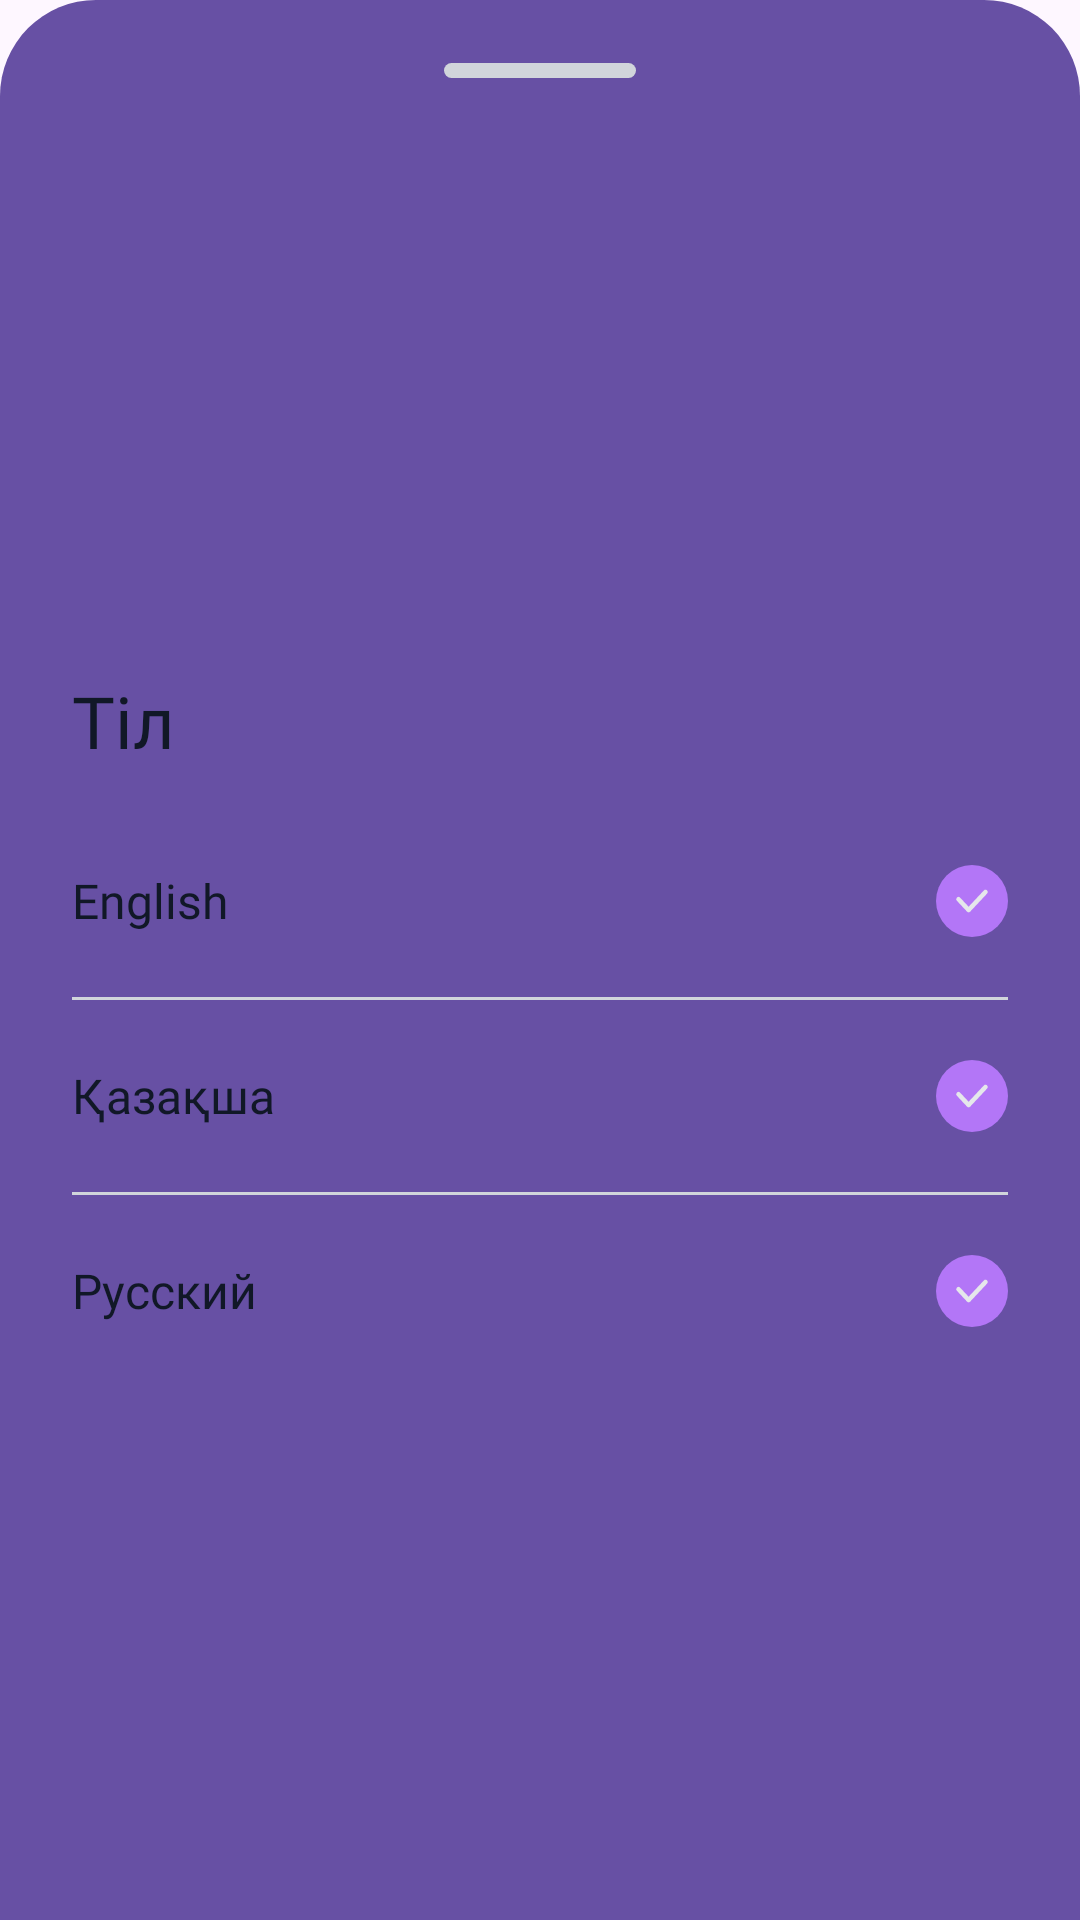

Named icons in this screenshot (1080px x 1920px) and their centers, [x,y]:
check: [972,901], [972,1096], [972,1291]
